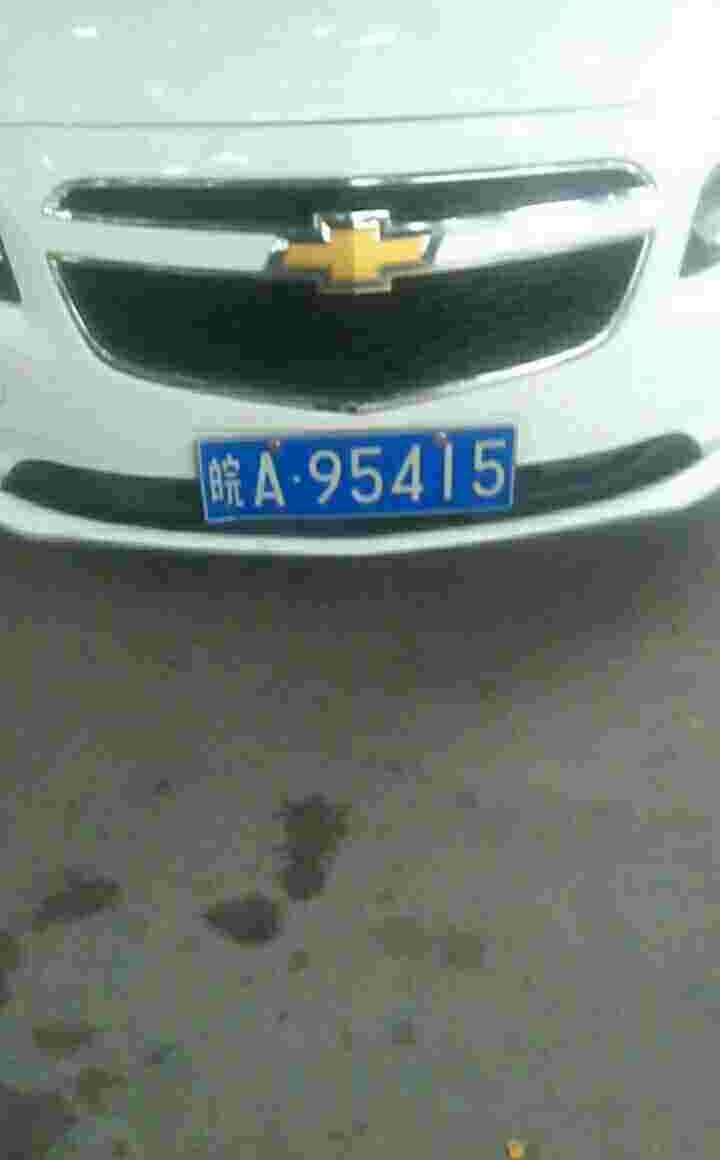license_plate: (193, 433, 515, 525)
